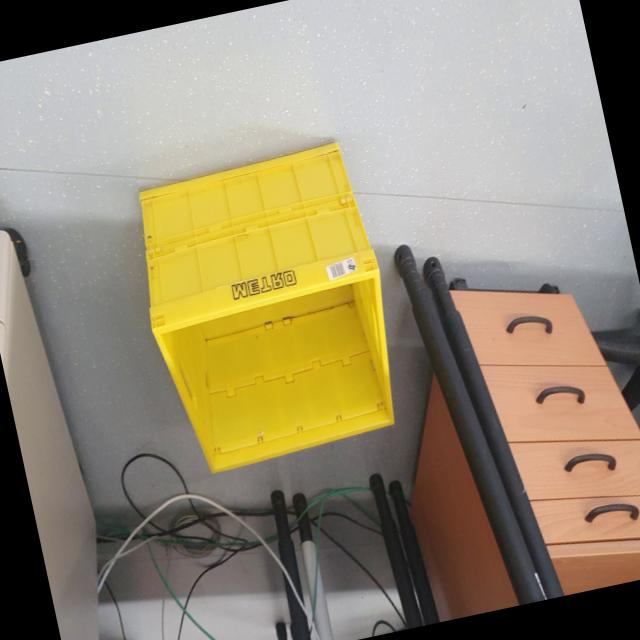box: (112, 108, 425, 494)
